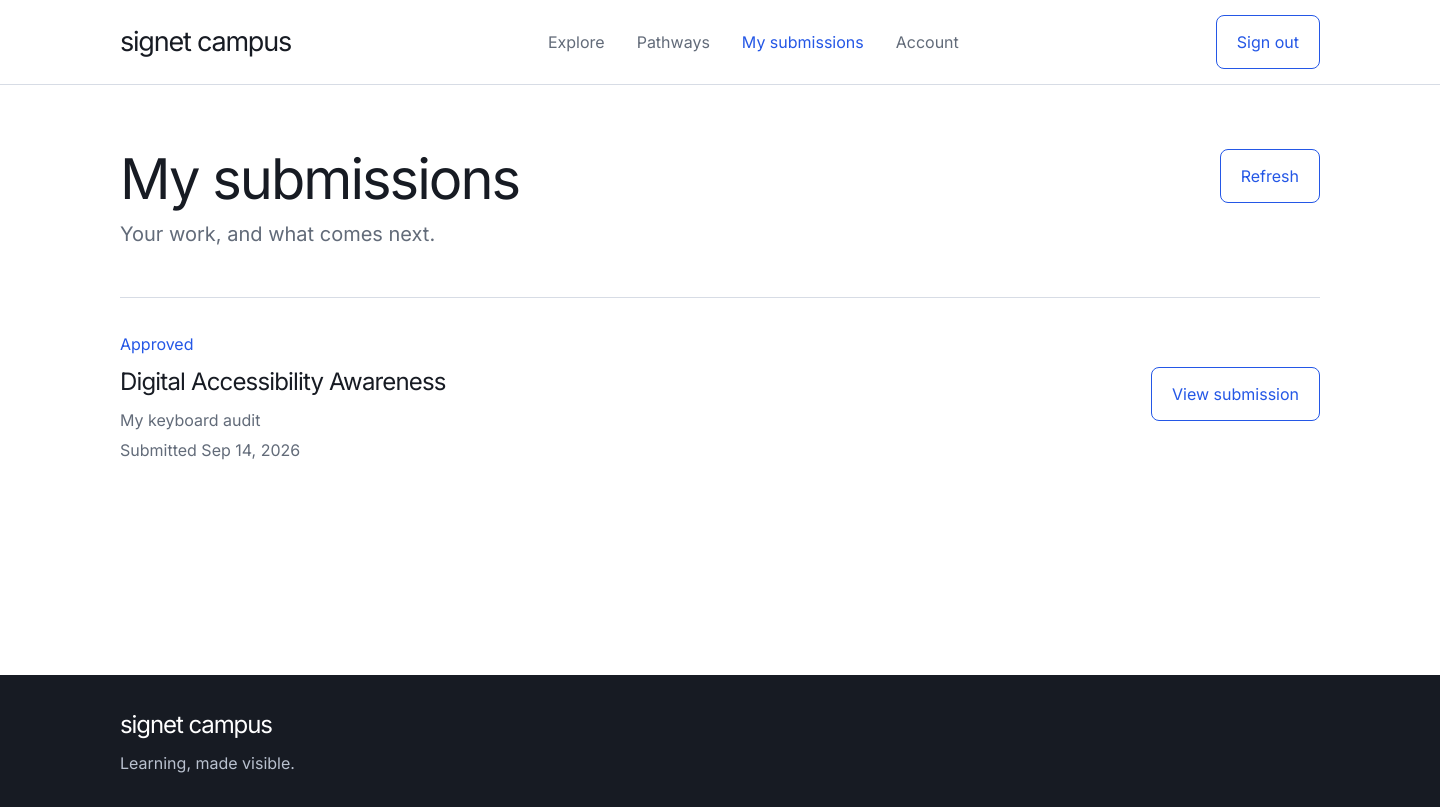
Test: requests private badge images with authentication and reports download failures
This screenshot has width=1440, height=810.
What coordinates should you click on to do the following:
click the button "View submission"
I would click on:
 (1236, 394)
Its box is x1=1151 y1=367 x2=1320 y2=421.
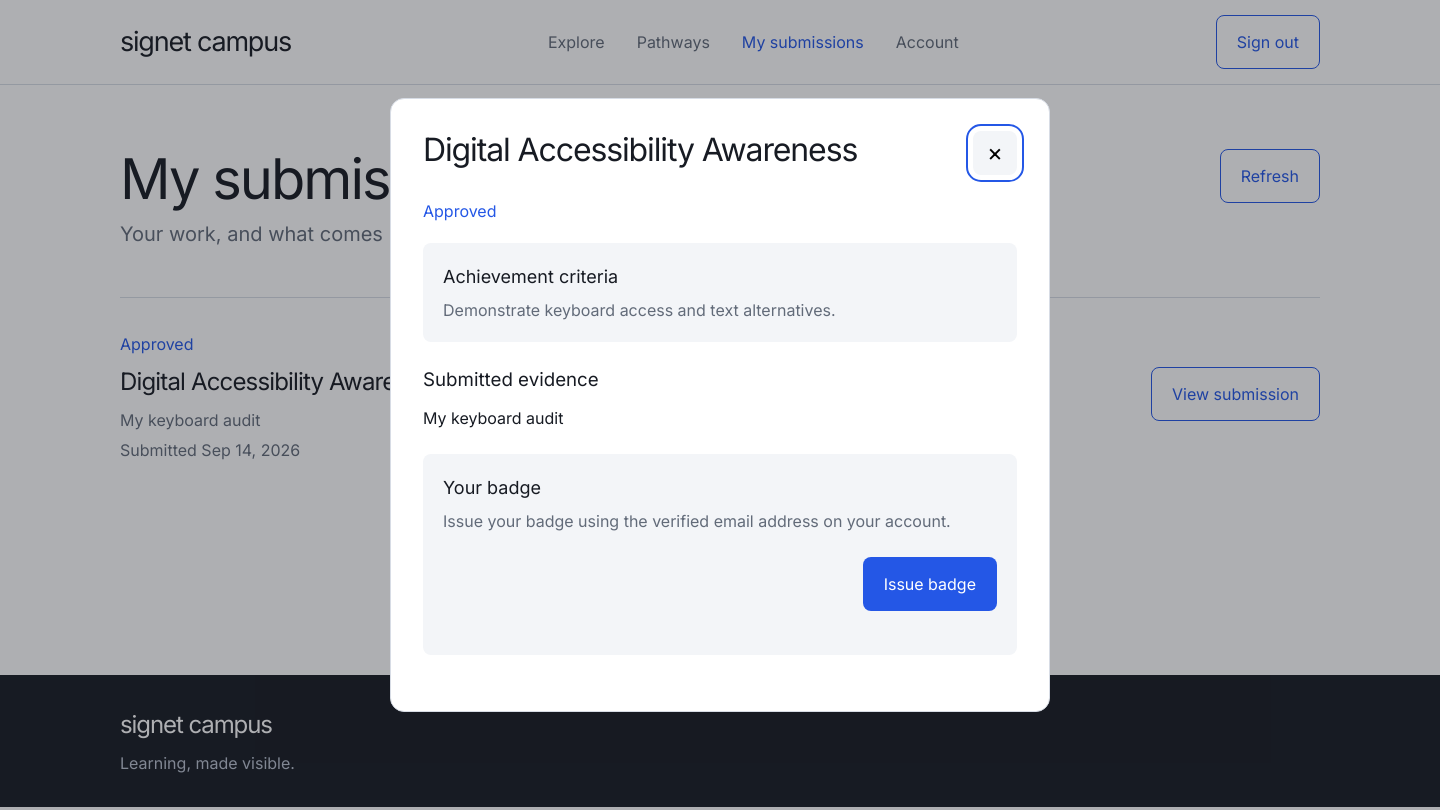
What coordinates should you click on to do the following:
click the button "Issue badge"
I would click on:
 (930, 584)
Its box is x1=863 y1=557 x2=997 y2=611.
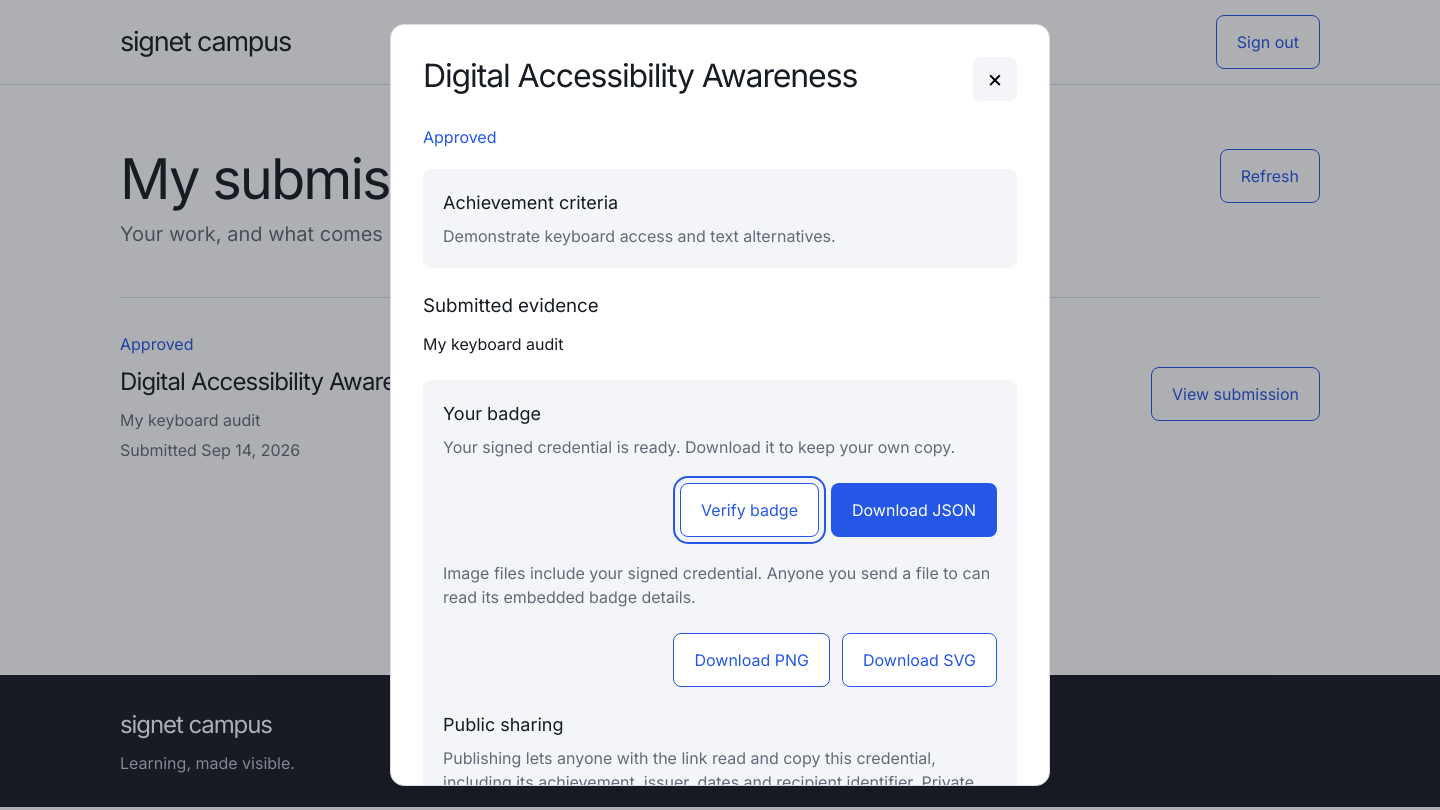
What coordinates should you click on to do the following:
click the button "Download PNG"
I would click on:
 (752, 660)
Its box is x1=674 y1=633 x2=830 y2=687.
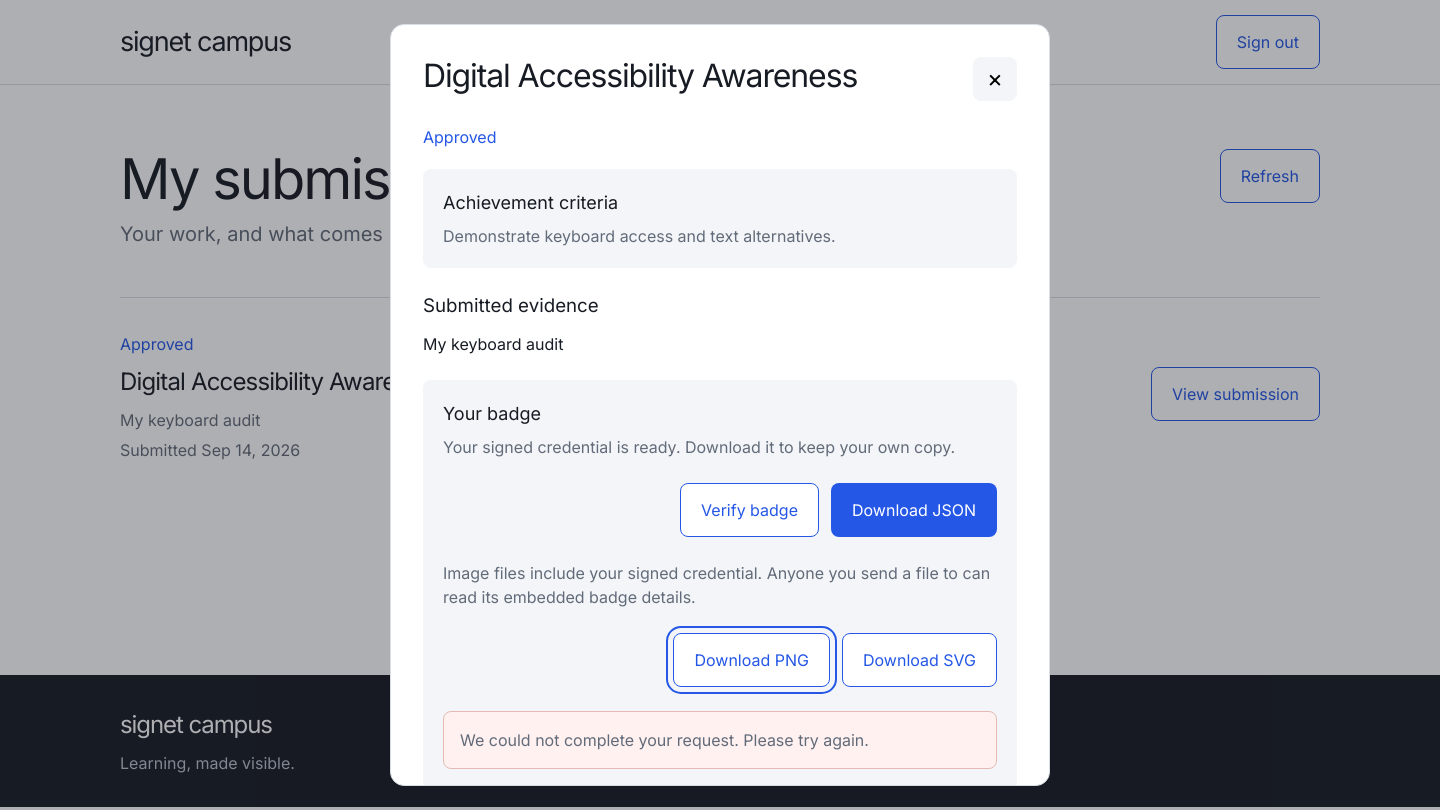
Result: the message shows "Please try again" at x1=460 y1=730 x2=869 y2=750
